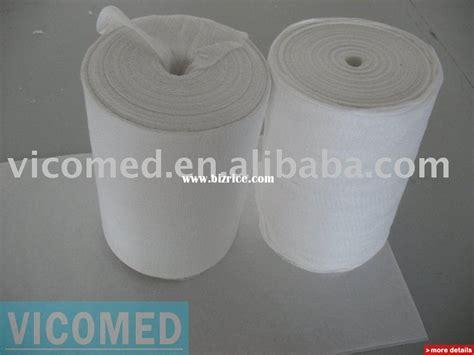gauze: (71, 14, 461, 311)
